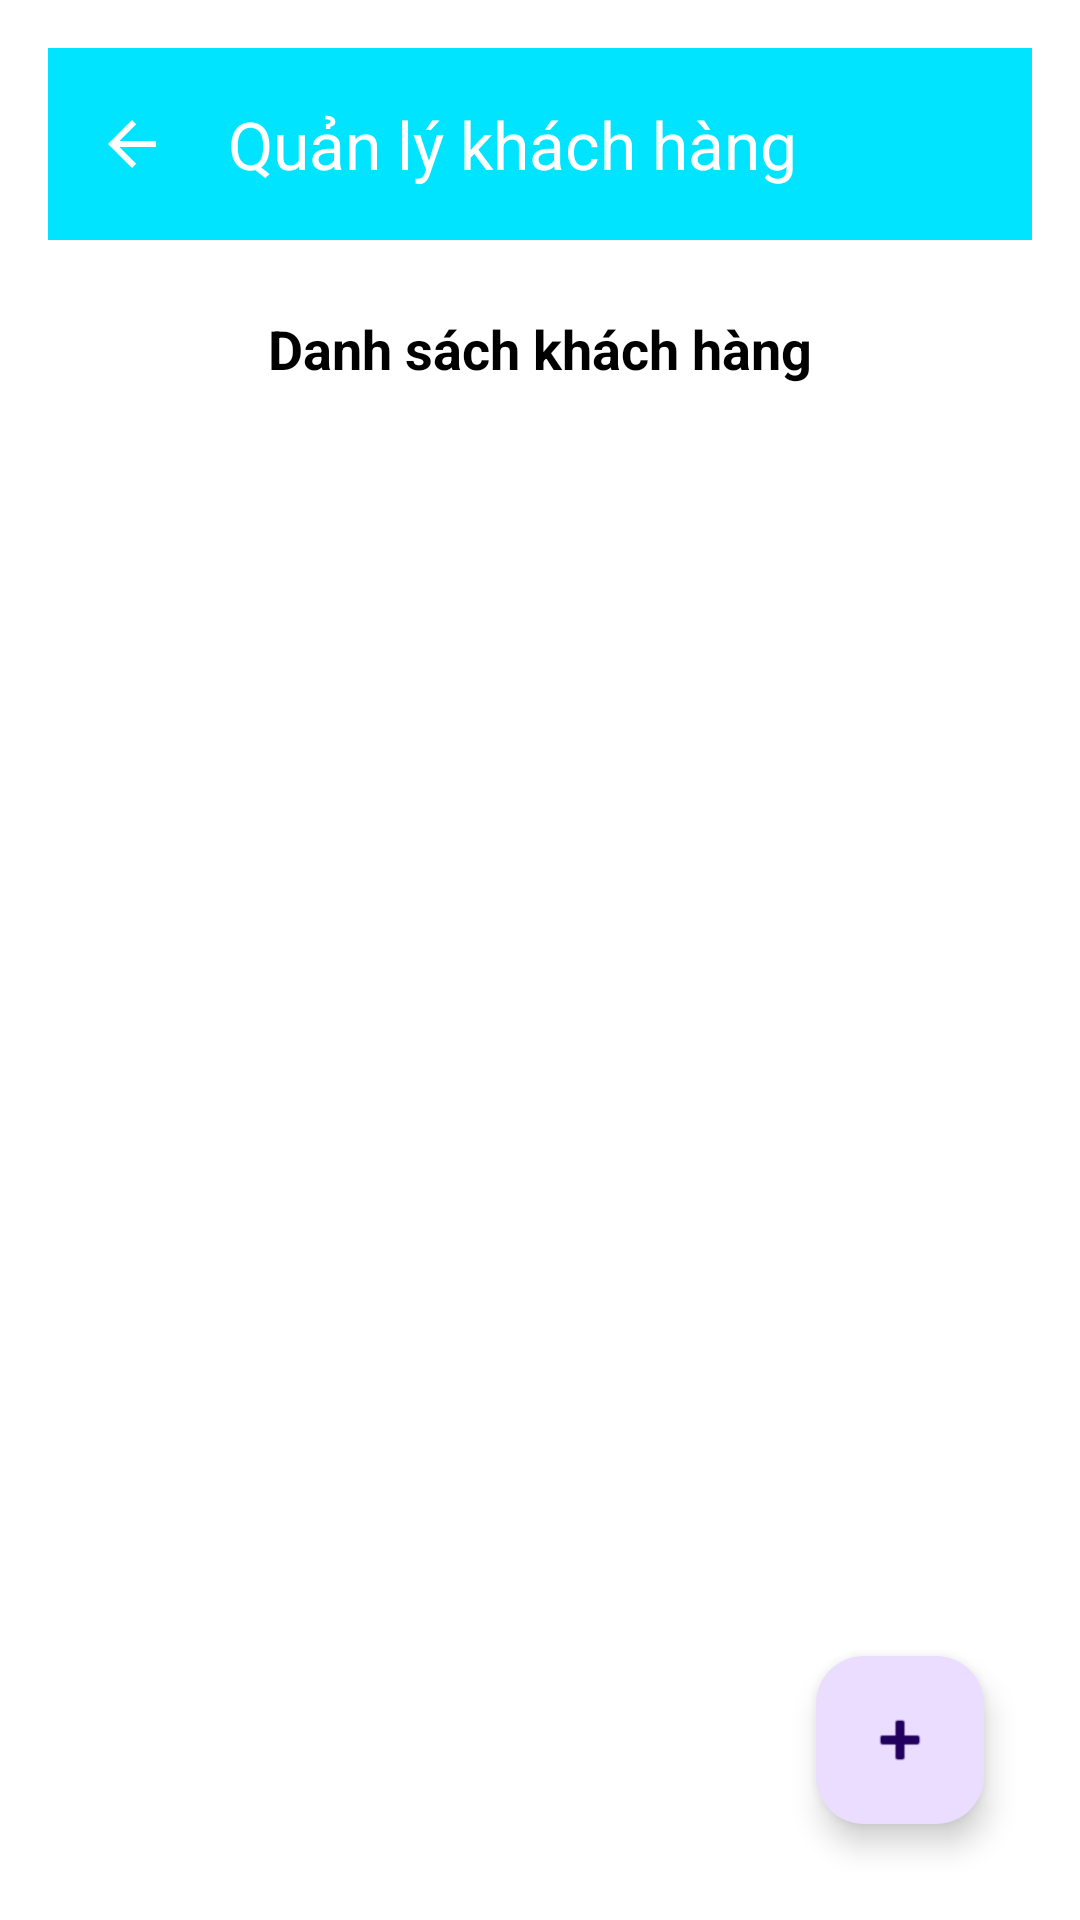

Icons on this 1080 × 1920 Android screen, each with the point to tap as (x,y):
Thêm khách hàng: (900,1740)
